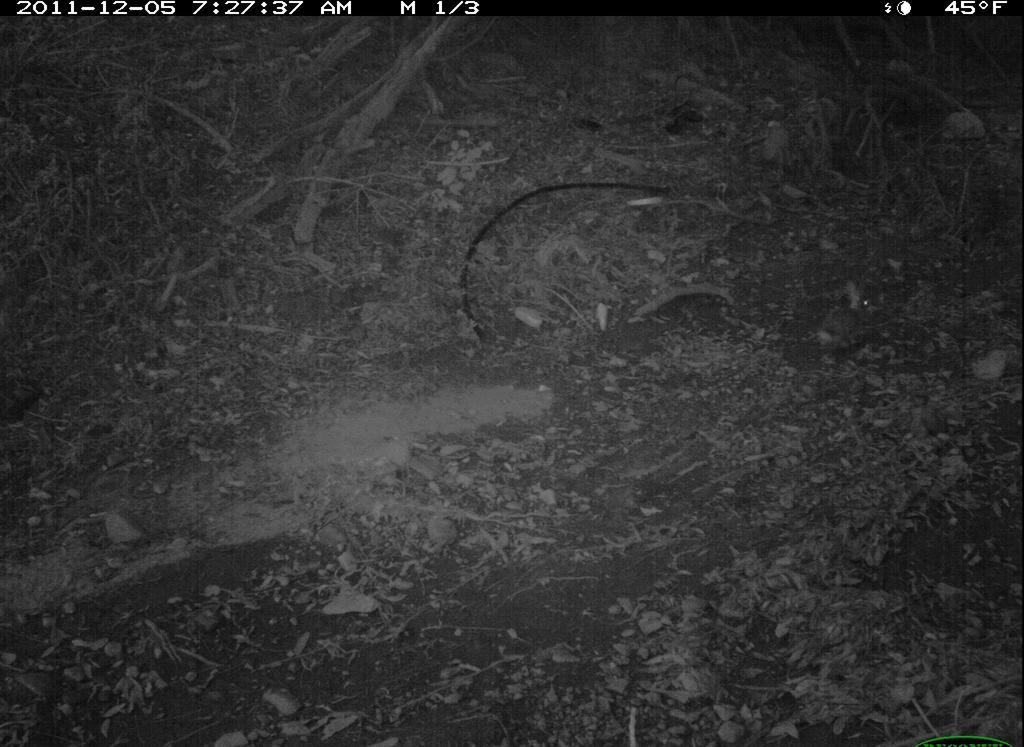rabbit: (801, 275, 890, 357)
